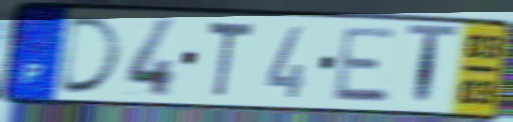4: (123, 16, 180, 100), (264, 24, 307, 100)
D: (54, 15, 126, 96)
E: (330, 25, 401, 105)
T: (404, 22, 461, 112), (203, 18, 257, 102)
